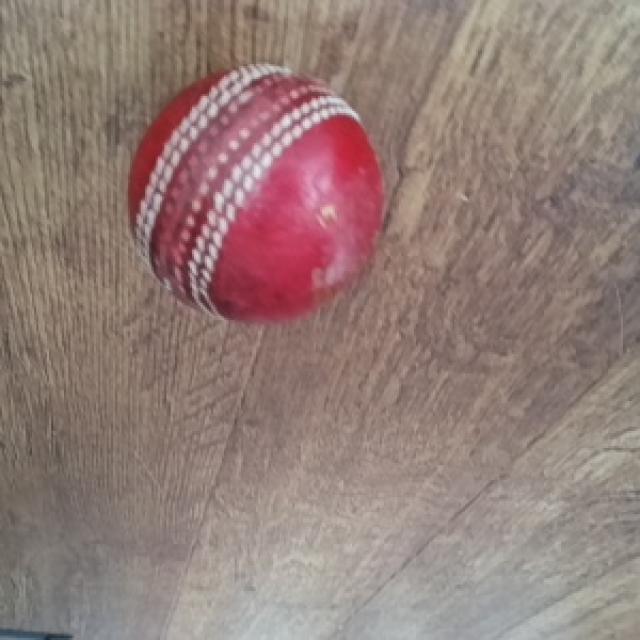ball: (128, 64, 386, 326)
